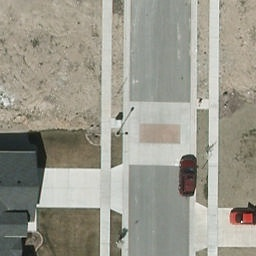car: (179, 158, 197, 196), (230, 211, 256, 224)
